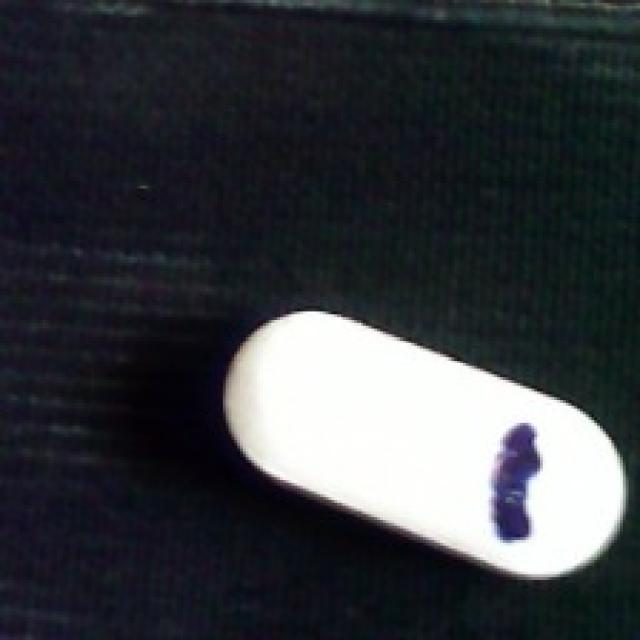defected: (215, 311, 634, 580)
